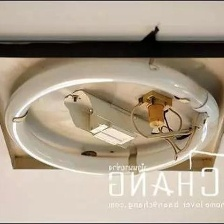light_bulb: (0, 56, 224, 181)
